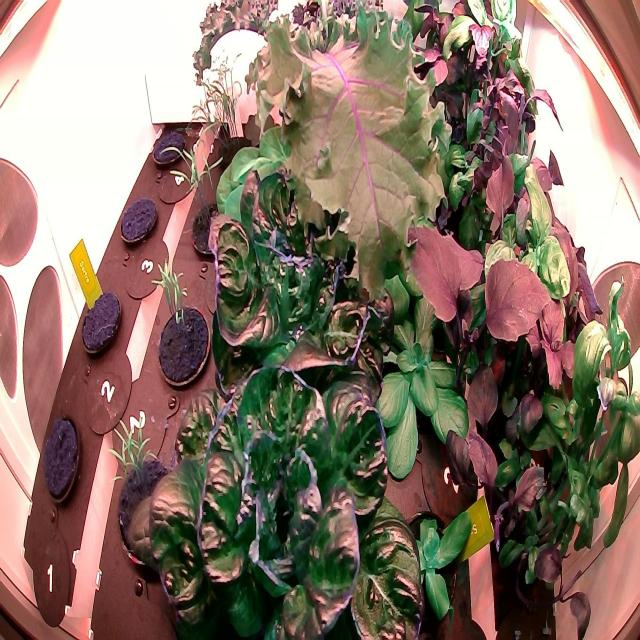Ready: (145, 339, 431, 640), (197, 136, 403, 392)
germination: (100, 410, 180, 580), (147, 256, 214, 392)
pod: (39, 411, 84, 507), (76, 279, 126, 364), (115, 190, 158, 252), (148, 118, 190, 172)
young: (361, 262, 475, 483), (398, 502, 480, 621)
